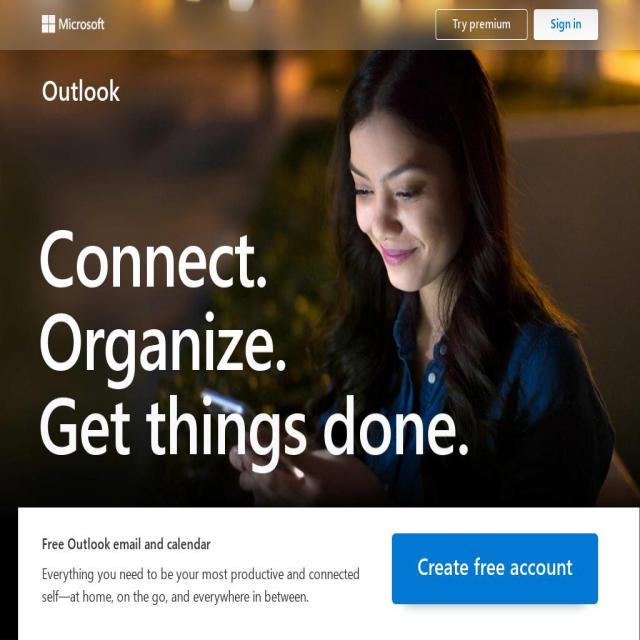button: (392, 534, 599, 604), (436, 8, 528, 40), (534, 8, 598, 40), (41, 15, 107, 33)
heading: (41, 533, 368, 555), (41, 75, 120, 103)
text: (37, 402, 595, 487), (37, 214, 595, 298), (37, 304, 595, 388), (41, 562, 368, 608), (392, 534, 599, 604)
